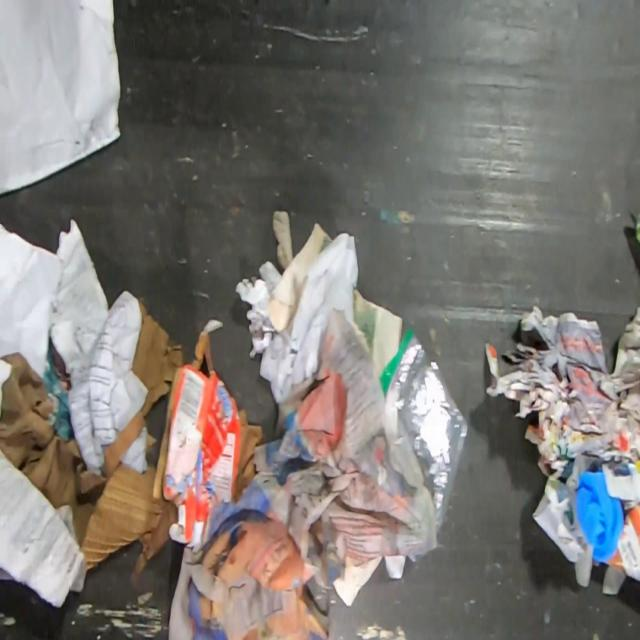cardboard: (0, 352, 108, 546), (150, 330, 243, 551), (79, 410, 177, 586), (129, 298, 184, 418), (238, 408, 264, 498), (631, 207, 639, 252)
soft_plastic: (378, 325, 469, 539), (406, 549, 432, 568)
